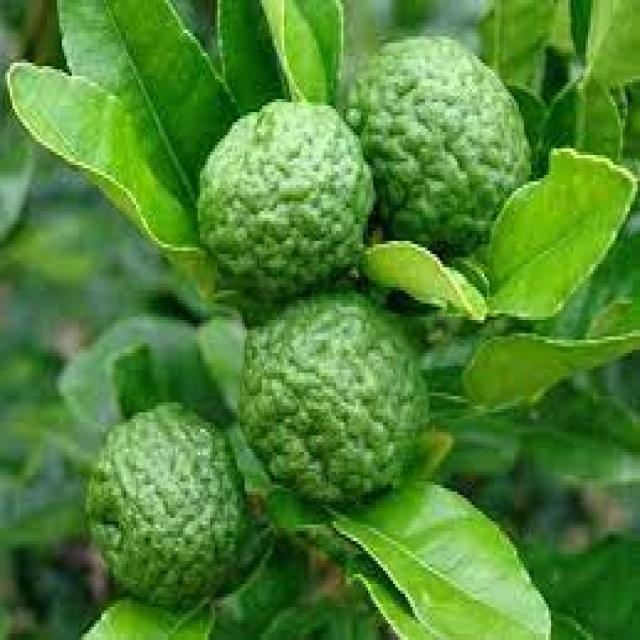Chuc: (341, 30, 531, 254), (235, 287, 430, 505), (195, 96, 376, 300), (84, 399, 247, 607)
